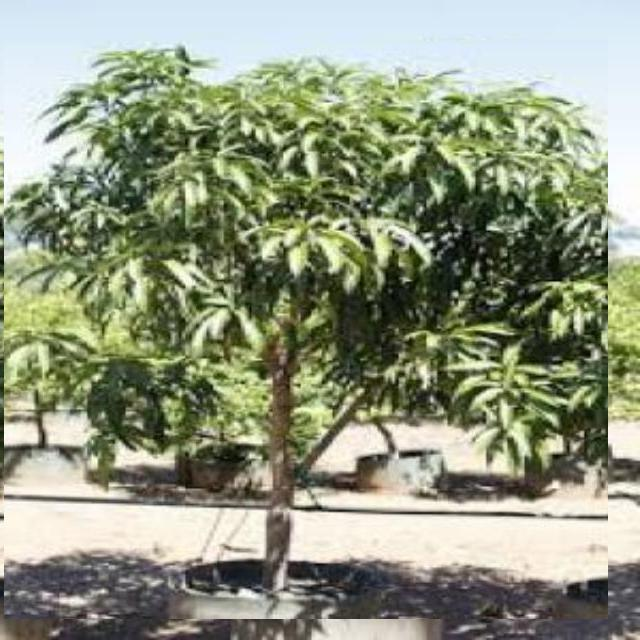tree: (4, 41, 608, 619)
